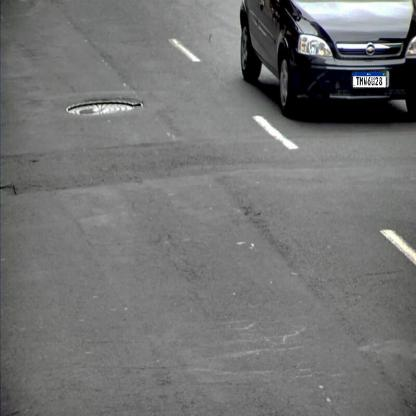PlacaM: (352, 71, 386, 88)
